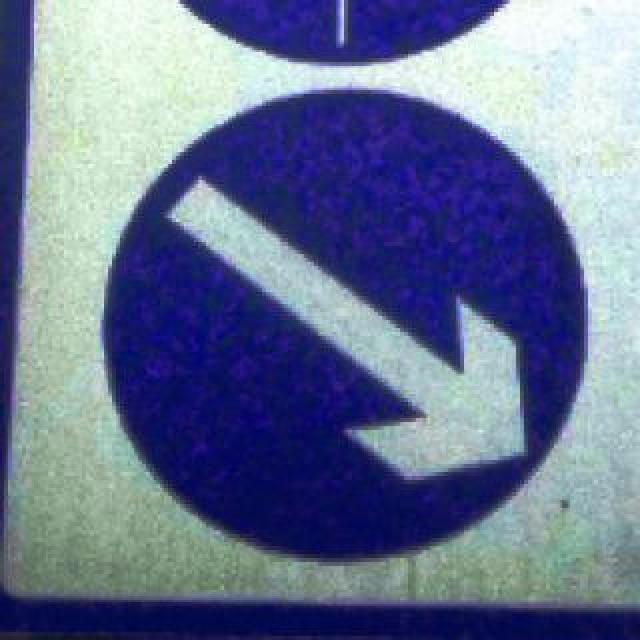keep right: (86, 70, 602, 574)
